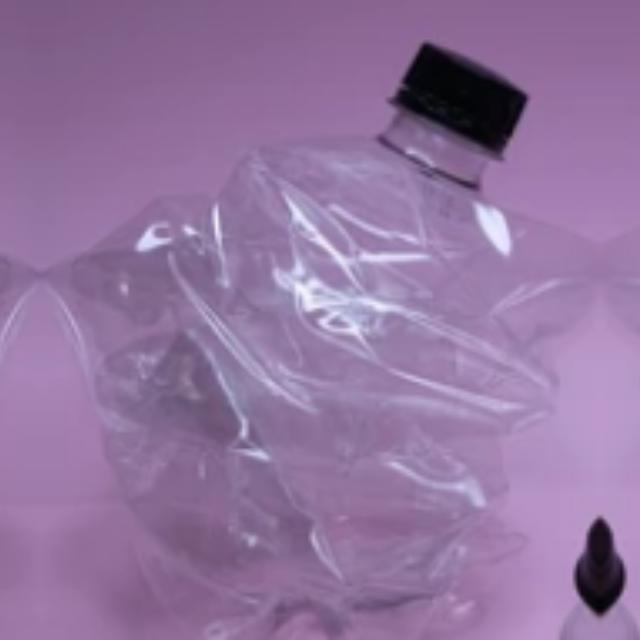Plastic: (66, 33, 584, 622), (615, 33, 640, 622), (0, 33, 13, 622)
